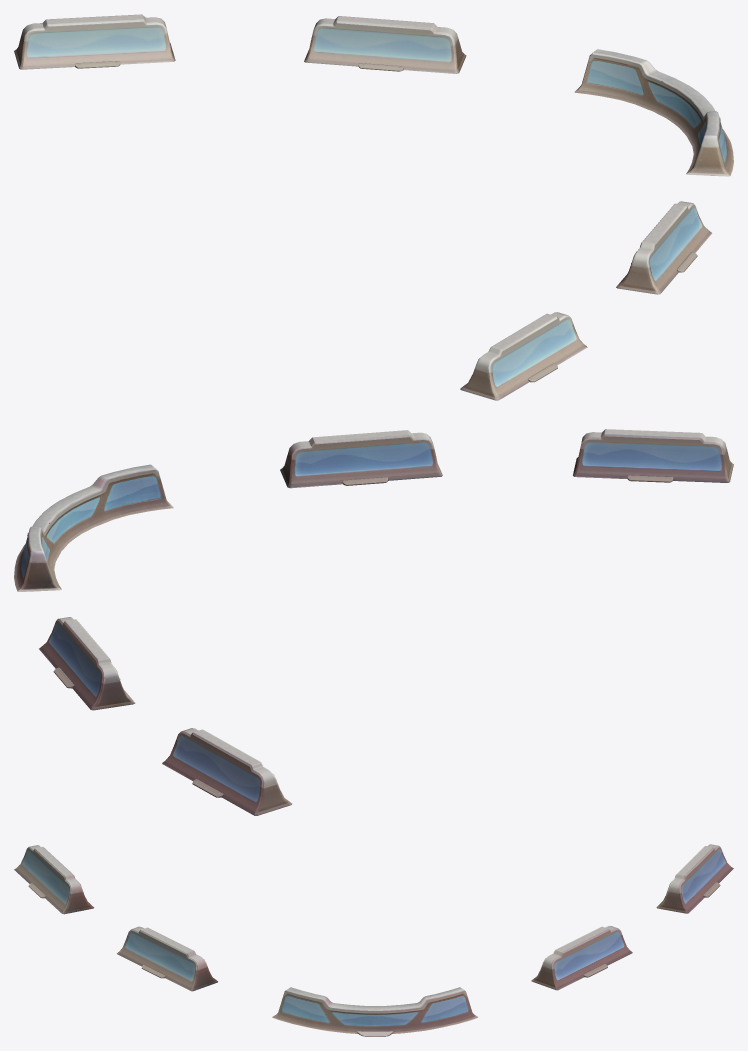
File: pref_sm_4v4beachtech_bk_centerblock_L01a_lv2.fbx
3 renders of one model, top to bottom at view 1: azimuth 30°, elevation 25°; view 2: azimuth 150°, elevation 25°; view 3: azimuth 270°, elevation 25°, orthographic. The views are drawn at different scales.
Parts seen in each view (by area): view 1: pref_sm_4v4beachtech_bk_centerblock_L01a_lv2; view 2: pref_sm_4v4beachtech_bk_centerblock_L01a_lv2; view 3: pref_sm_4v4beachtech_bk_centerblock_L01a_lv2.
Part boxes in pixels (bbox=[...]): pref_sm_4v4beachtech_bk_centerblock_L01a_lv2: bbox=[14, 14, 733, 400]; pref_sm_4v4beachtech_bk_centerblock_L01a_lv2: bbox=[14, 429, 733, 815]; pref_sm_4v4beachtech_bk_centerblock_L01a_lv2: bbox=[14, 844, 733, 1036].
Bounding box in the file's own units: 22.24 × 1.64 × 38.87.
